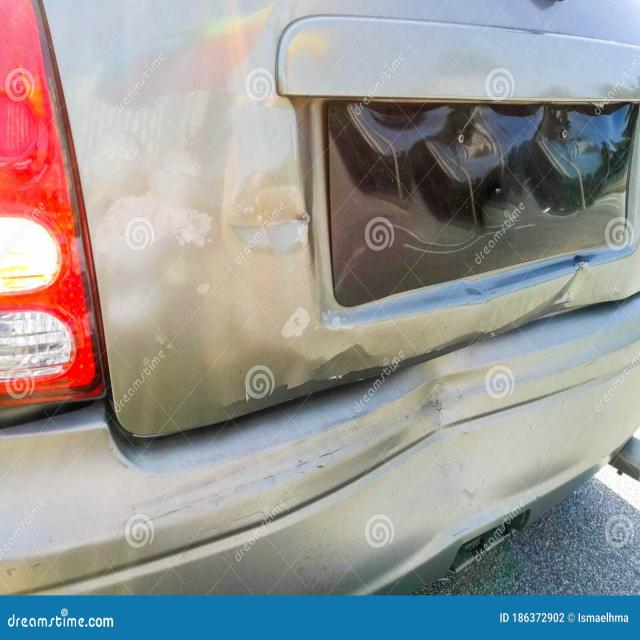dent: (213, 251, 628, 421), (326, 369, 570, 562), (225, 182, 315, 266)
scratch: (133, 372, 464, 556), (28, 560, 45, 574), (582, 358, 603, 369), (451, 527, 471, 538), (5, 565, 20, 578), (468, 501, 473, 507)
